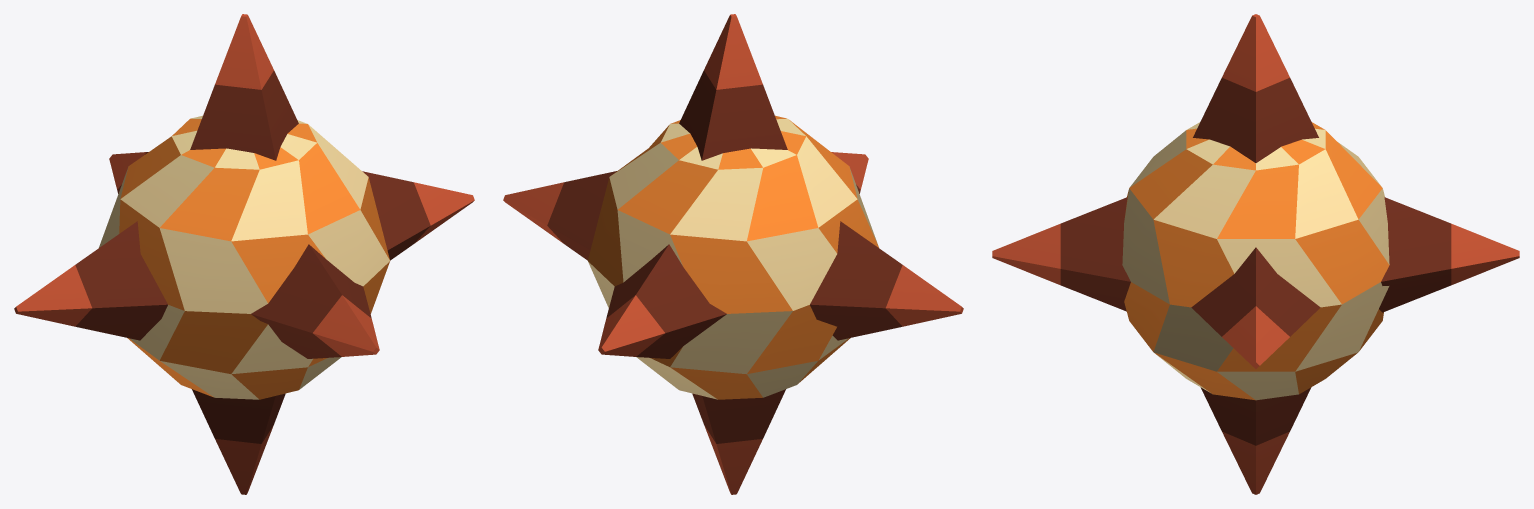
File: HostileOrb.fbx
The picture shows the model from 3 angles, left to right: view 1: azimuth 30°, elevation 25°; view 2: azimuth 150°, elevation 25°; view 3: azimuth 270°, elevation 25°; orthographic projection.
Parts seen in each view (by area): view 1: Core, Spikes; view 2: Core, Spikes; view 3: Core, Spikes.
Part boxes in pixels (<box>): Core: <box>99,115,389,399</box>; Spikes: <box>14,14,474,494</box>; Core: <box>588,115,878,399</box>; Spikes: <box>503,14,963,494</box>; Core: <box>1122,122,1389,400</box>; Spikes: <box>992,14,1519,494</box>.
Bounding box in the file's own units: 0.54 × 0.54 × 0.54.
2 materials, 2 textured.
